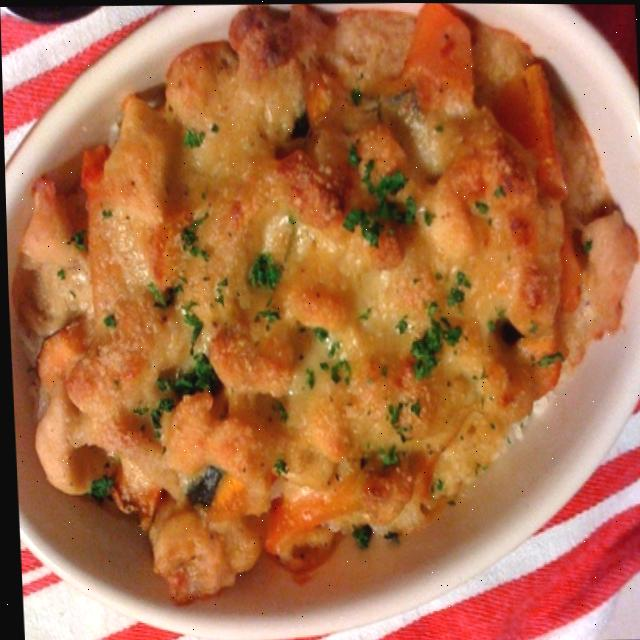米饭主食: (0, 0, 640, 628)
